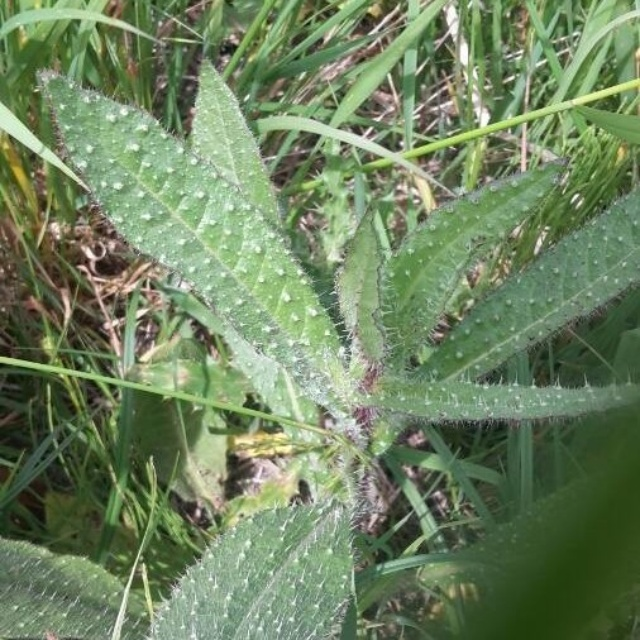obstacle: (40, 68, 550, 601)
